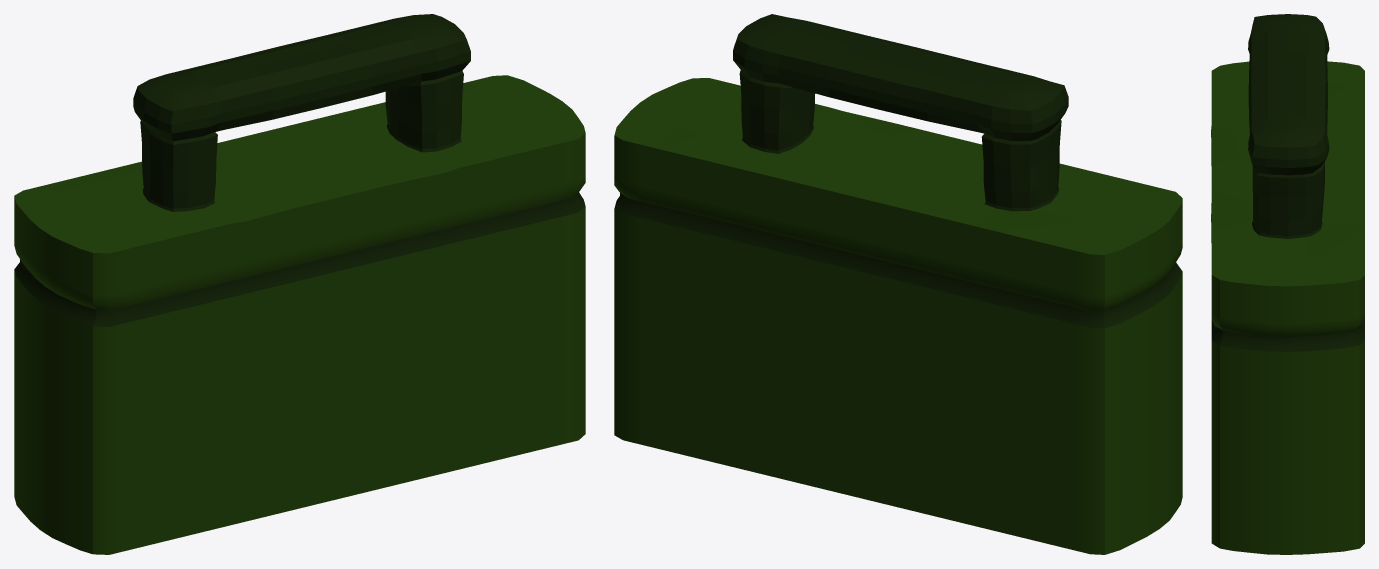
The model's file is Caja_munición.fbx.
3 views of the same model, side by side, from view 1: azimuth 30°, elevation 25°; view 2: azimuth 150°, elevation 25°; view 3: azimuth 270°, elevation 25° (orthographic). The views are drawn at different scales.
Parts seen in each view (by area): view 1: Caja, Mango; view 2: Caja, Mango; view 3: Caja, Mango.
Part boxes in pixels (x1,y1,x2,y2): Caja: (14, 75, 585, 554); Mango: (14, 14, 585, 326); Caja: (614, 78, 1182, 554); Mango: (614, 14, 1182, 328); Caja: (1211, 61, 1364, 554); Mango: (1211, 14, 1364, 351).
Bounding box in the file's own units: 1.02 × 0.7662 × 0.2915.
